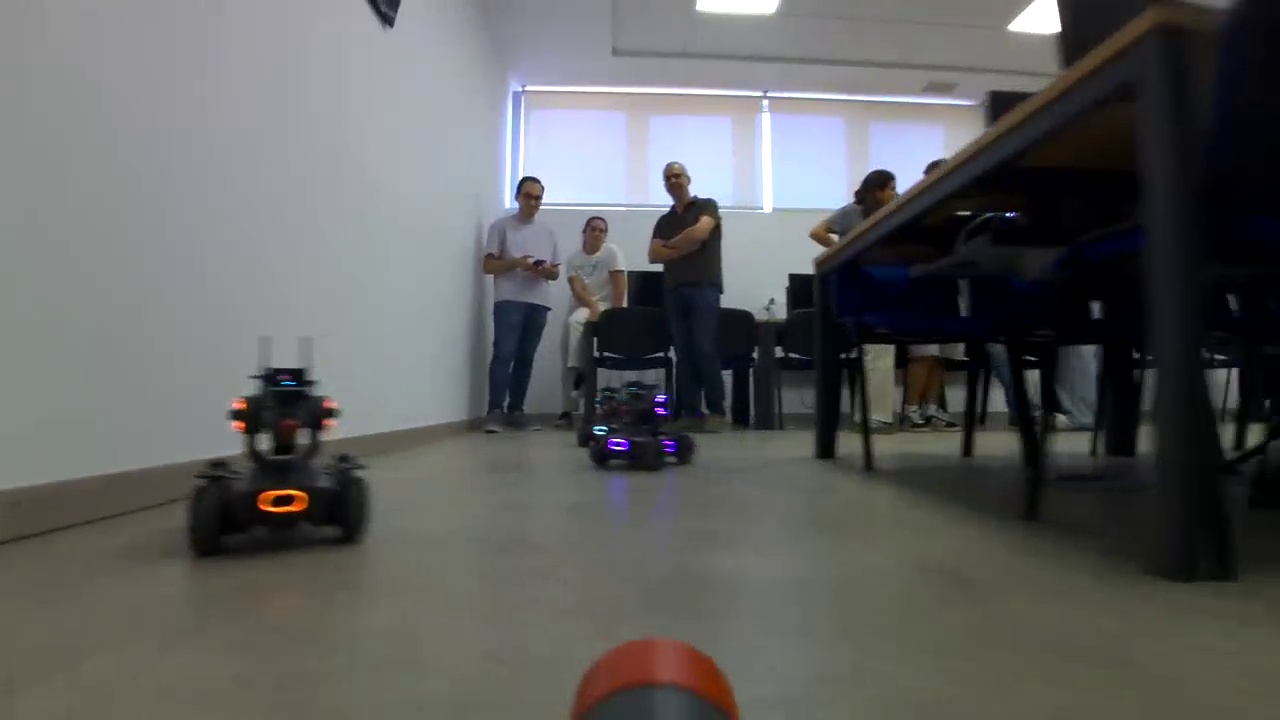robot: (171, 377, 394, 565), (589, 370, 695, 474), (575, 378, 619, 442)
